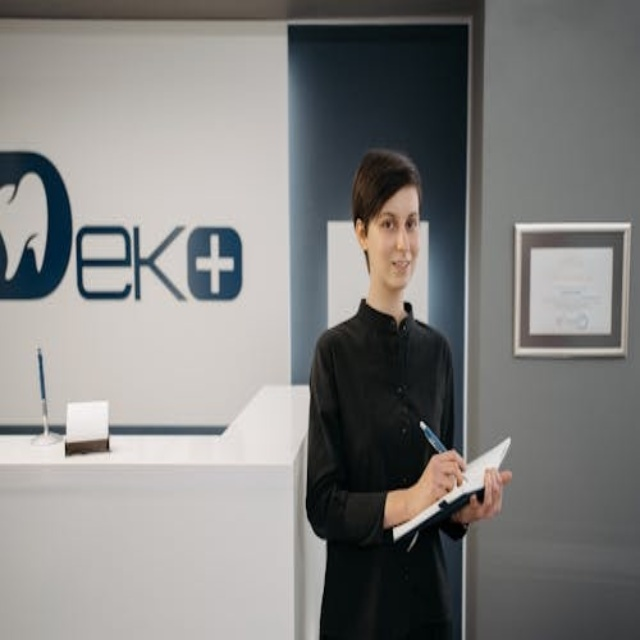Sin_gafas: (374, 205, 421, 238)
Sin_guantes: (416, 446, 462, 512), (457, 470, 511, 526)
Sin_mascara: (380, 253, 413, 286)
